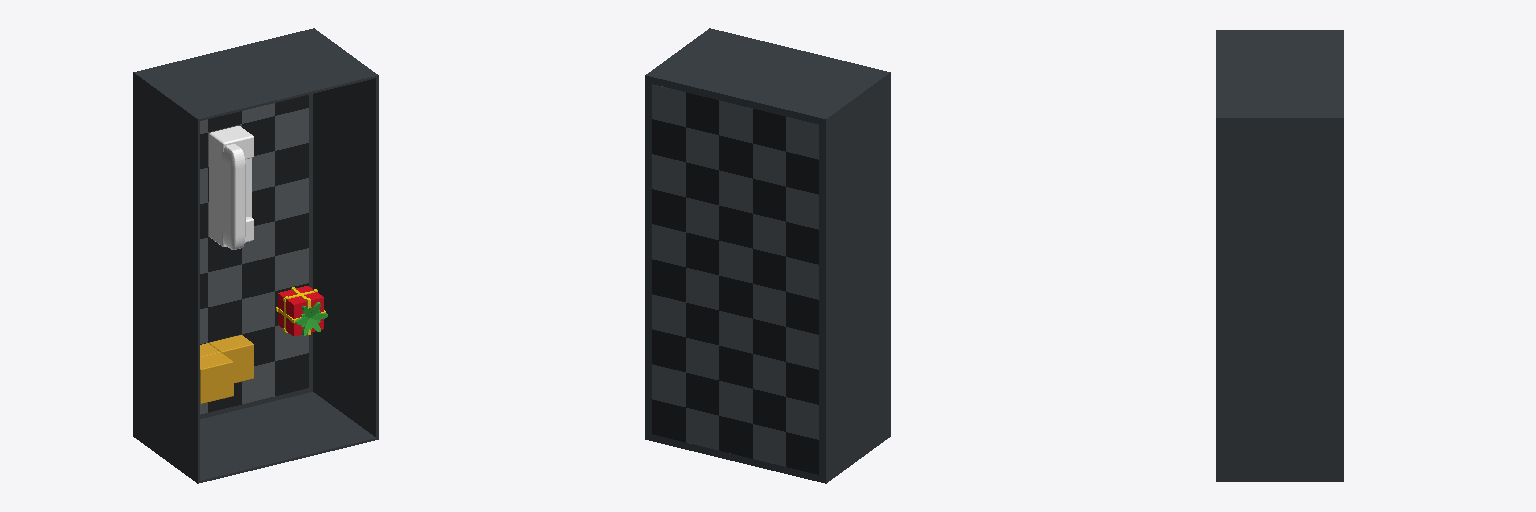
File: warehouse.obj
3 renders of one model, left to right at view 1: azimuth 30°, elevation 25°; view 2: azimuth 150°, elevation 25°; view 3: azimuth 270°, elevation 25°, orthographic.
Parts seen in each view (by area): view 1: obj_0; view 2: obj_0; view 3: obj_0.
Part boxes in pixels (left/top/right/bottom): obj_0: left=133, top=28, right=378, bottom=483; obj_0: left=645, top=28, right=890, bottom=483; obj_0: left=1216, top=30, right=1343, bottom=481.
Bounding box in the file's own units: 81 × 156 × 50.